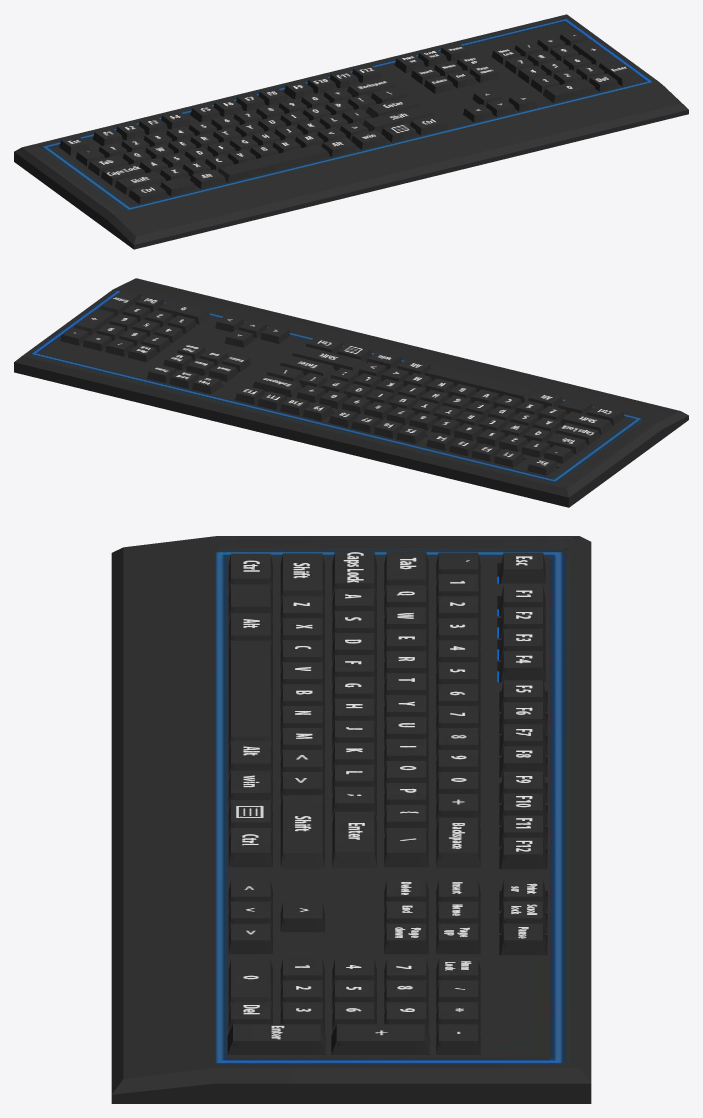
Rendered from Keyboard-transformed.glb.
The picture shows the model from 3 angles, top to bottom: view 1: azimuth 30°, elevation 25°; view 2: azimuth 150°, elevation 25°; view 3: azimuth 270°, elevation 25°; orthographic projection. The views are drawn at different scales.
Visible parts, largest first — view 1: Keyboard1; view 2: Keyboard1; view 3: Keyboard1.
Part boxes in pixels (box(x1,y1,x2,y2)): Keyboard1: box(14, 14, 688, 249); Keyboard1: box(14, 278, 688, 507); Keyboard1: box(111, 536, 591, 1103).
Bounding box in the file's own units: 415 × 15.65 × 155.
1 material, 1 textured.
